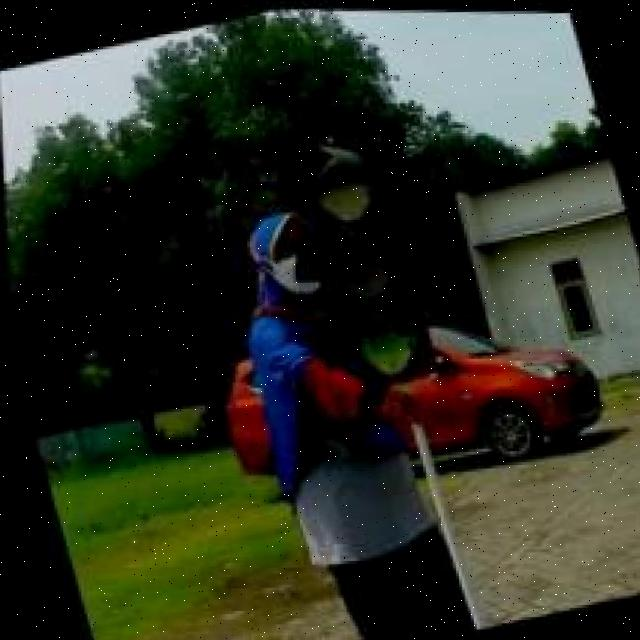green_light: (262, 126, 446, 403)
